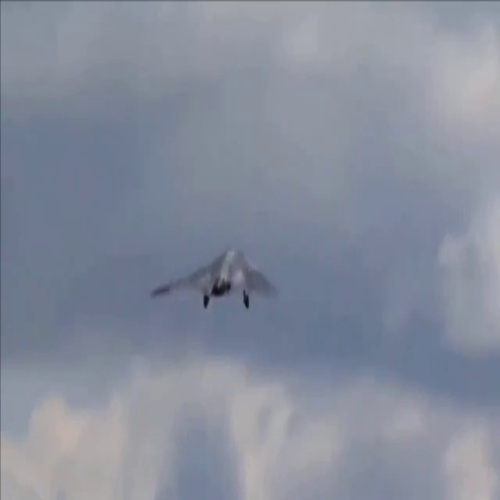uav: (148, 244, 279, 313)
